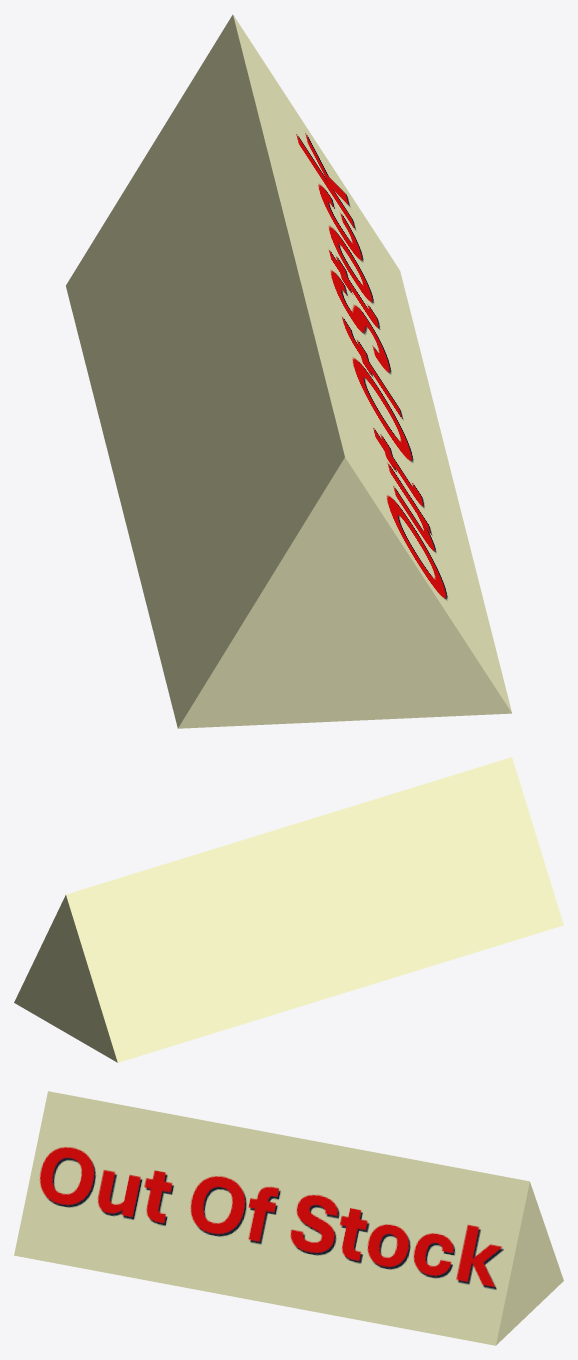
Rendered from Out of Order Sign.fbx.
3 views of the same model, one above another, from view 1: azimuth 30°, elevation 25°; view 2: azimuth 150°, elevation 25°; view 3: azimuth 270°, elevation 25° (orthographic). The views are drawn at different scales.
Visible parts, largest first — view 1: pPrism1; view 2: pPrism1; view 3: pPrism1.
Boxes of the visible parts, x1,y1,x2,y2 form: pPrism1: (66, 14, 511, 728); pPrism1: (14, 757, 563, 1062); pPrism1: (14, 1091, 563, 1345).
Bounding box in the file's own units: 2.18 × 0.866 × 3.27.
Materials: 1 (1 with a texture image).
